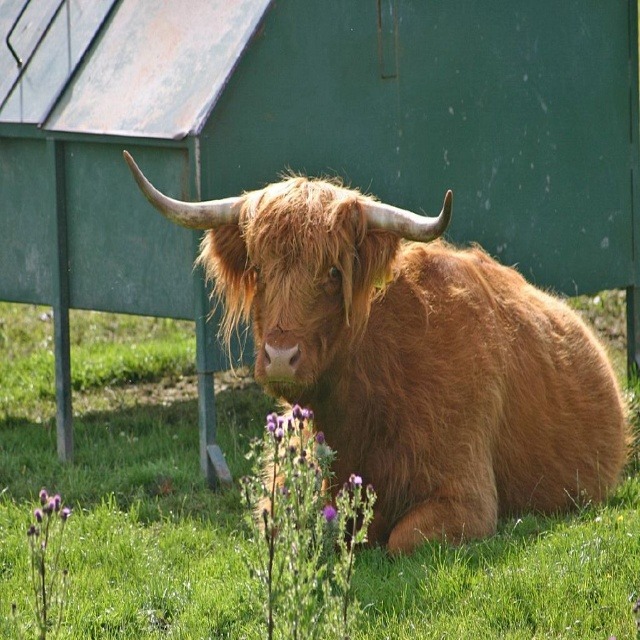Cattle: (123, 150, 640, 558)
